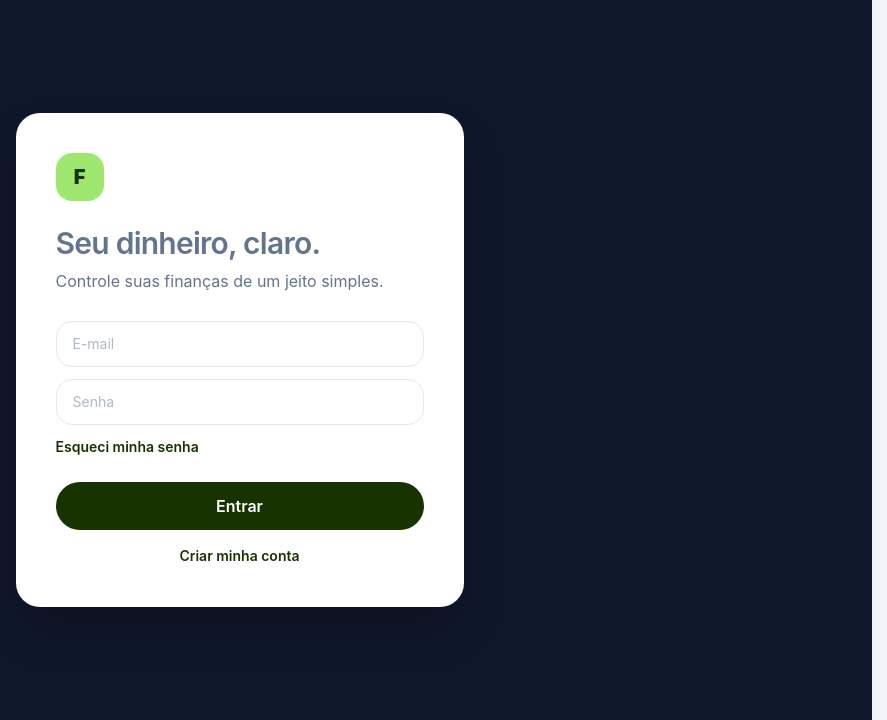
it: login e cadastro › explica o erro do Better Auth em português
Type "ana@finn.test" into the field labelled "E-mail". click: (240, 344)
box: [56,321,424,367]
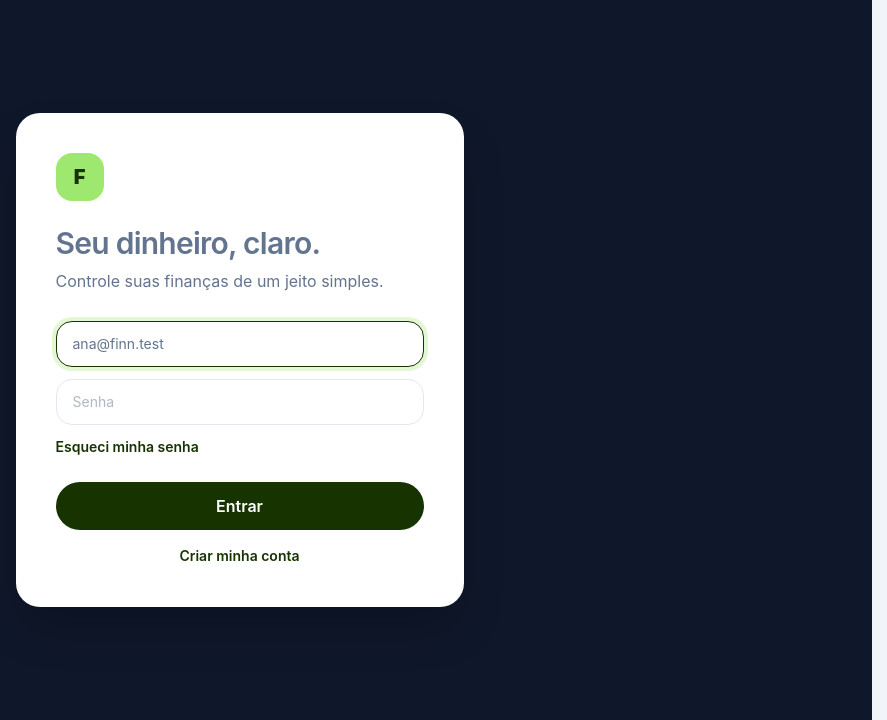
Type "errada" into the password field labelled "Senha". click: (240, 402)
box: [56,379,424,425]
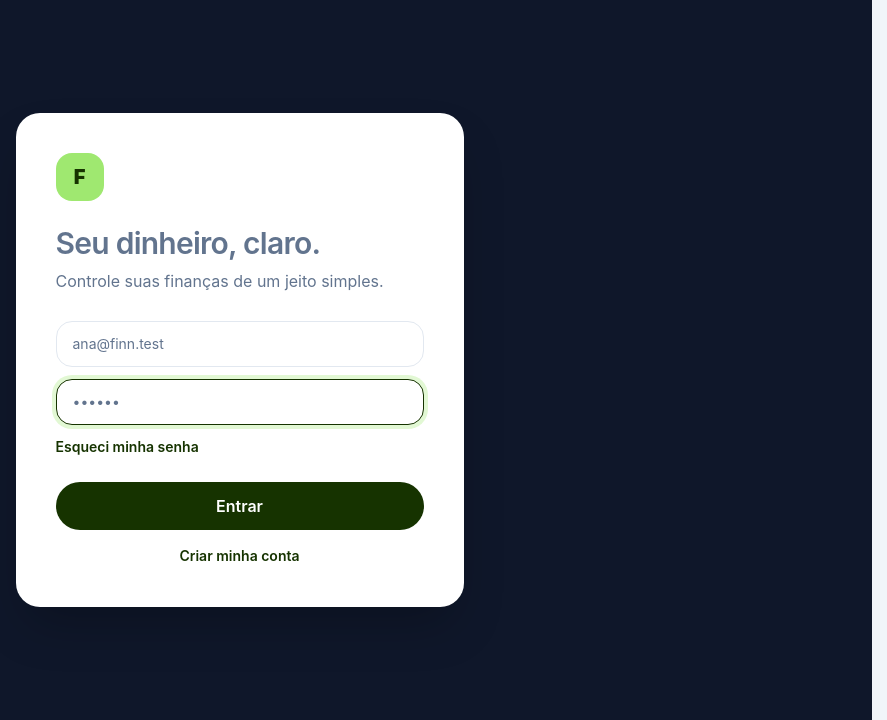
Click the button "Entrar". click: (240, 506)
box: [56,482,424,530]
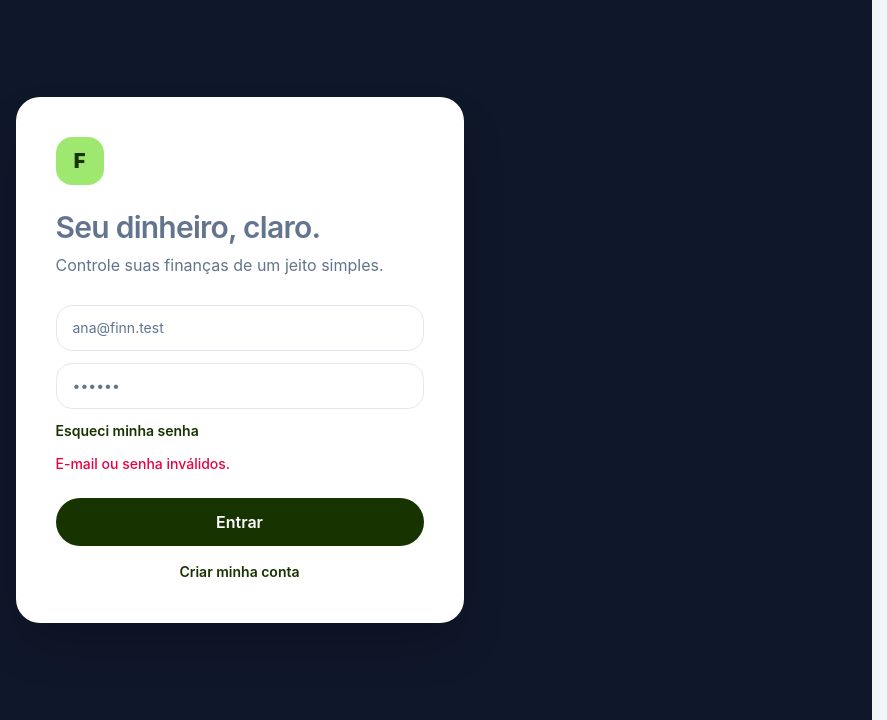
Check: the message reads "E-mail ou senha inválidos.", box [56,455,230,472]
